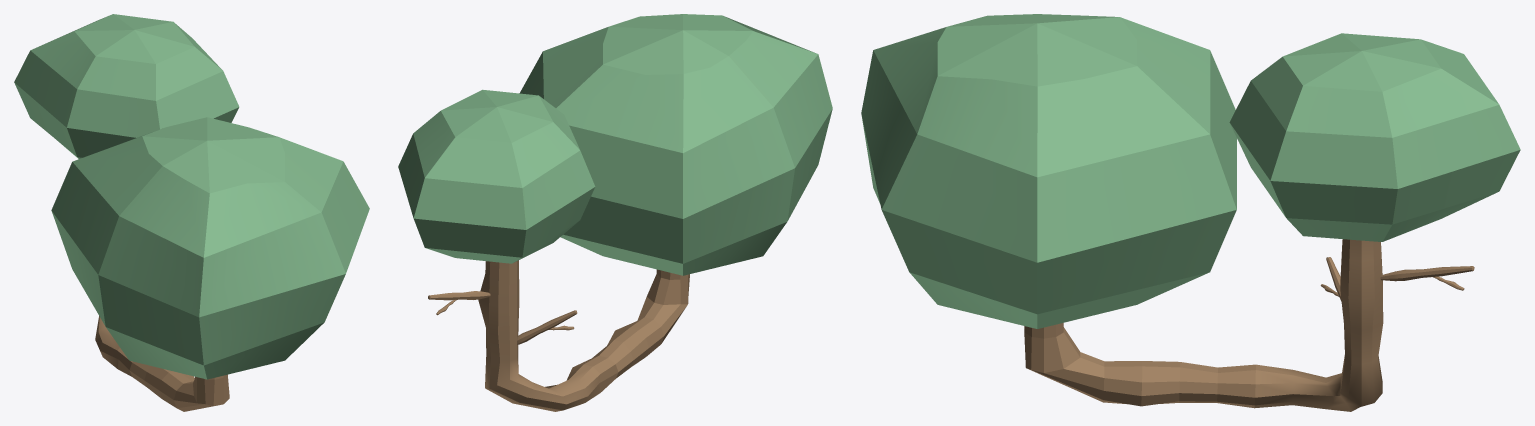
Rendered from bush02.fbx.
The picture shows the model from 3 angles, left to right: view 1: azimuth 30°, elevation 25°; view 2: azimuth 150°, elevation 25°; view 3: azimuth 270°, elevation 25°; orthographic projection. The views are drawn at different scales.
Parts seen in each view (by area): view 1: pSphere16; view 2: pSphere16; view 3: pSphere16.
Part boxes in pixels (x1,y1,x2,y2): pSphere16: [14, 14, 369, 411]; pSphere16: [398, 14, 832, 411]; pSphere16: [861, 14, 1520, 411].
Bounding box in the file's own units: 3.51 × 3.71 × 5.77.
